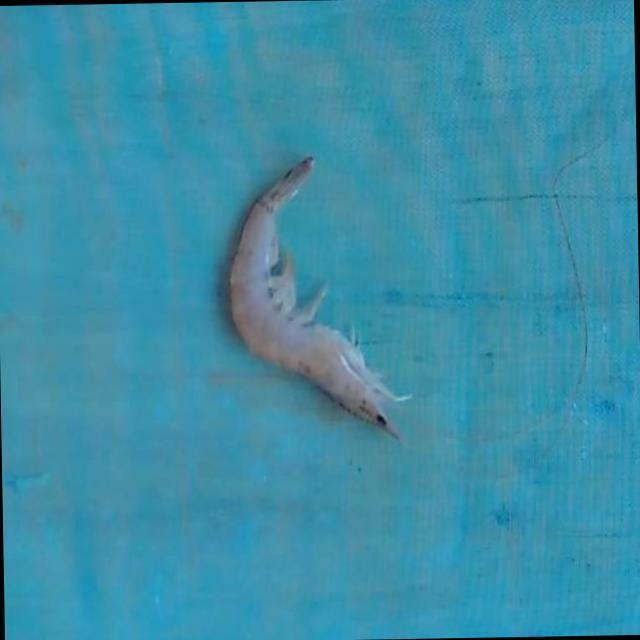shrimp: (231, 157, 401, 439)
